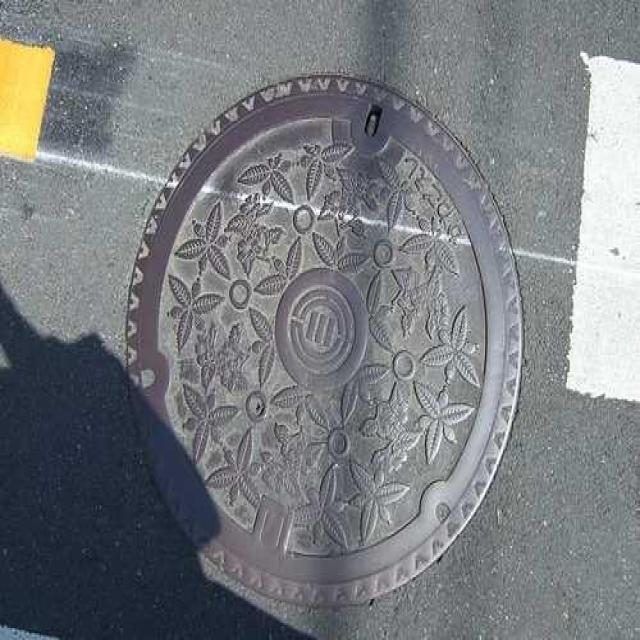manhole: (123, 73, 524, 609)
